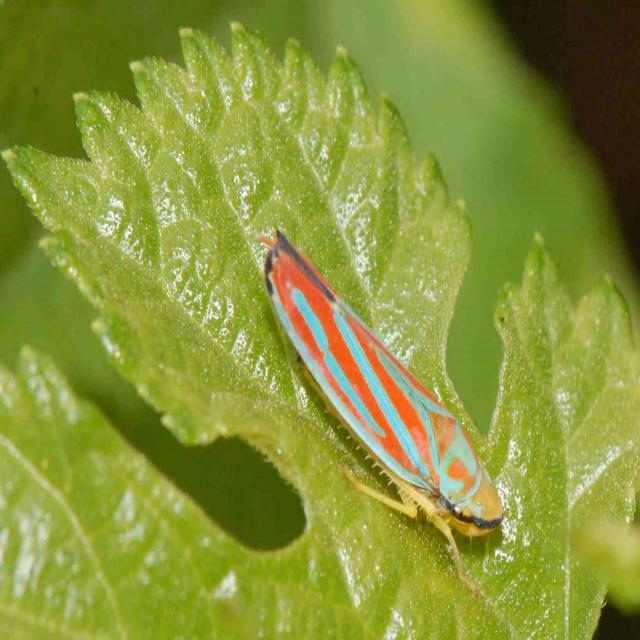Yechan: (259, 223, 507, 567)
